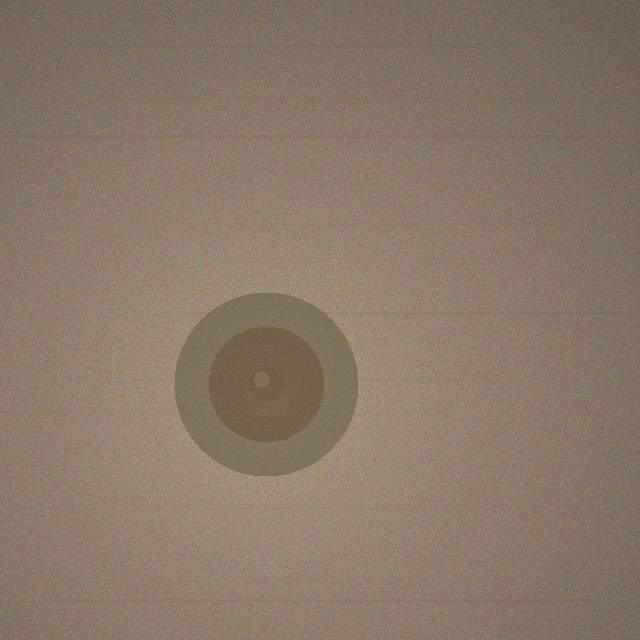good: (174, 292, 358, 476)
